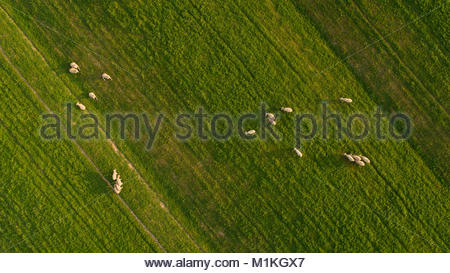sheep: (75, 101, 87, 111), (293, 147, 303, 158), (343, 153, 354, 162), (359, 154, 370, 163), (340, 96, 352, 104), (110, 168, 117, 181), (115, 174, 123, 185), (280, 107, 293, 113), (101, 73, 112, 80), (265, 111, 274, 119), (69, 62, 80, 68), (244, 129, 255, 135), (354, 161, 365, 167), (69, 68, 79, 74), (88, 92, 96, 99)
